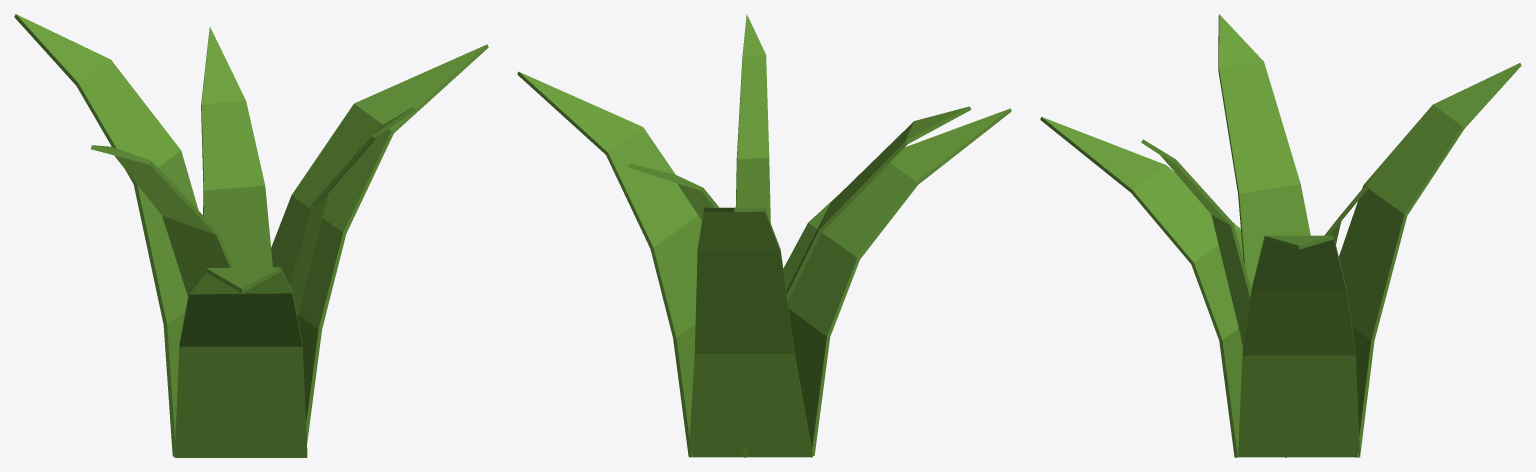
File: Grass_2.fbx
3 renders of one model, left to right at view 1: azimuth 30°, elevation 25°; view 2: azimuth 150°, elevation 25°; view 3: azimuth 270°, elevation 25°, orthographic. The views are drawn at different scales.
Parts seen in each view (by area): view 1: Grass_2; view 2: Grass_2; view 3: Grass_2.
Boxes of the visible parts, <box> form: Grass_2: <box>14,14,488,457</box>; Grass_2: <box>517,14,1011,457</box>; Grass_2: <box>1040,14,1521,457</box>.
Bounding box in the file's own units: 119 × 96.56 × 123.
Materials: 1 (1 with a texture image).
